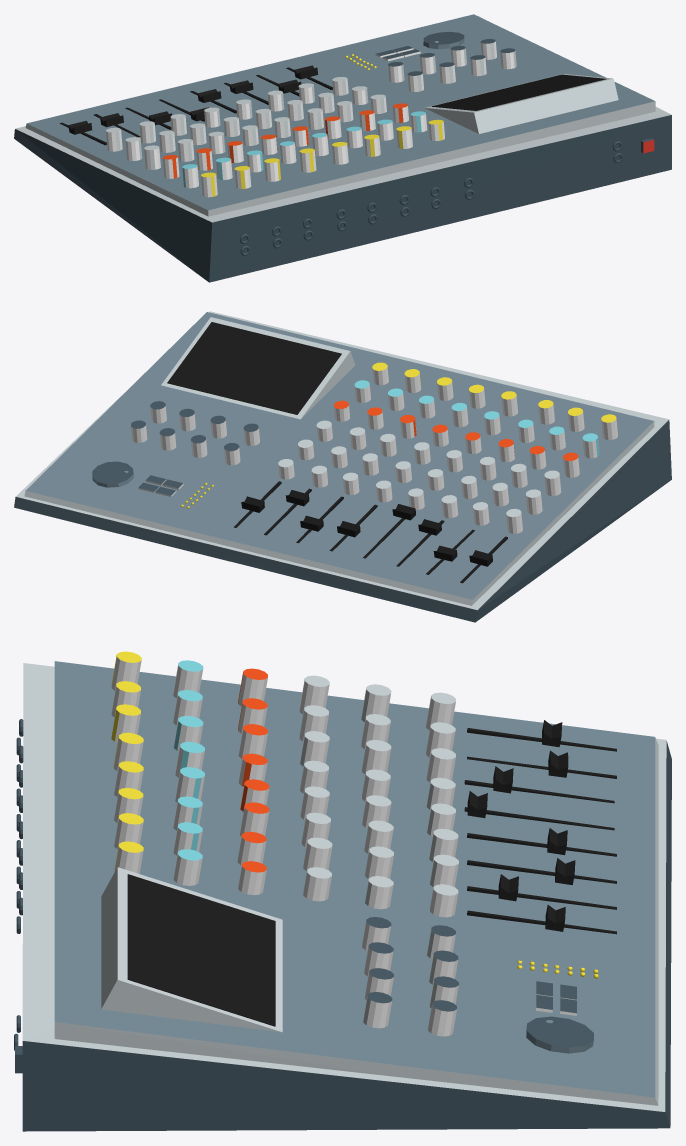
File: audio_interface.glb
3 renders of one model, top to bottom at view 1: azimuth 30°, elevation 25°; view 2: azimuth 150°, elevation 25°; view 3: azimuth 270°, elevation 25°, orthographic. The views are drawn at different scales.
Visible parts, largest first — view 1: group1044398291, group46021557, group1285066321, group79297576, group585407428; view 2: group1044398291, group46021557, group79297576, group1285066321, group585407428; view 3: group1044398291, group46021557, group79297576, group1285066321, group585407428, group1928956943, group1691023472, group604880534, group944311541, group1115758431, group916088644, group1304572911 (+45 smaller).
Boxes of the visible parts, x1,y1,x2,y2 form: group1044398291: [25, 14, 655, 216]; group46021557: [14, 15, 671, 282]; group1285066321: [424, 74, 618, 133]; group79297576: [432, 74, 606, 110]; group585407428: [423, 31, 464, 49]; group1044398291: [24, 312, 654, 605]; group46021557: [14, 311, 671, 622]; group79297576: [167, 322, 341, 414]; group1285066321: [161, 317, 355, 419]; group585407428: [92, 461, 133, 487]; group1044398291: [54, 661, 658, 1105]; group46021557: [22, 663, 671, 1131]; group79297576: [127, 874, 275, 1026]; group1285066321: [101, 867, 282, 1032]; group585407428: [526, 1016, 593, 1053]; group1928956943: [173, 849, 202, 885]; group1691023472: [363, 992, 392, 1028]; group604880534: [428, 1000, 456, 1036]; group944311541: [303, 867, 331, 901]; group1115758431: [238, 861, 266, 895]; group916088644: [111, 651, 141, 690]; group1304572911: [299, 675, 329, 714].
Bounding box in the file's own units: 3.44 × 0.5545 × 2.57.
